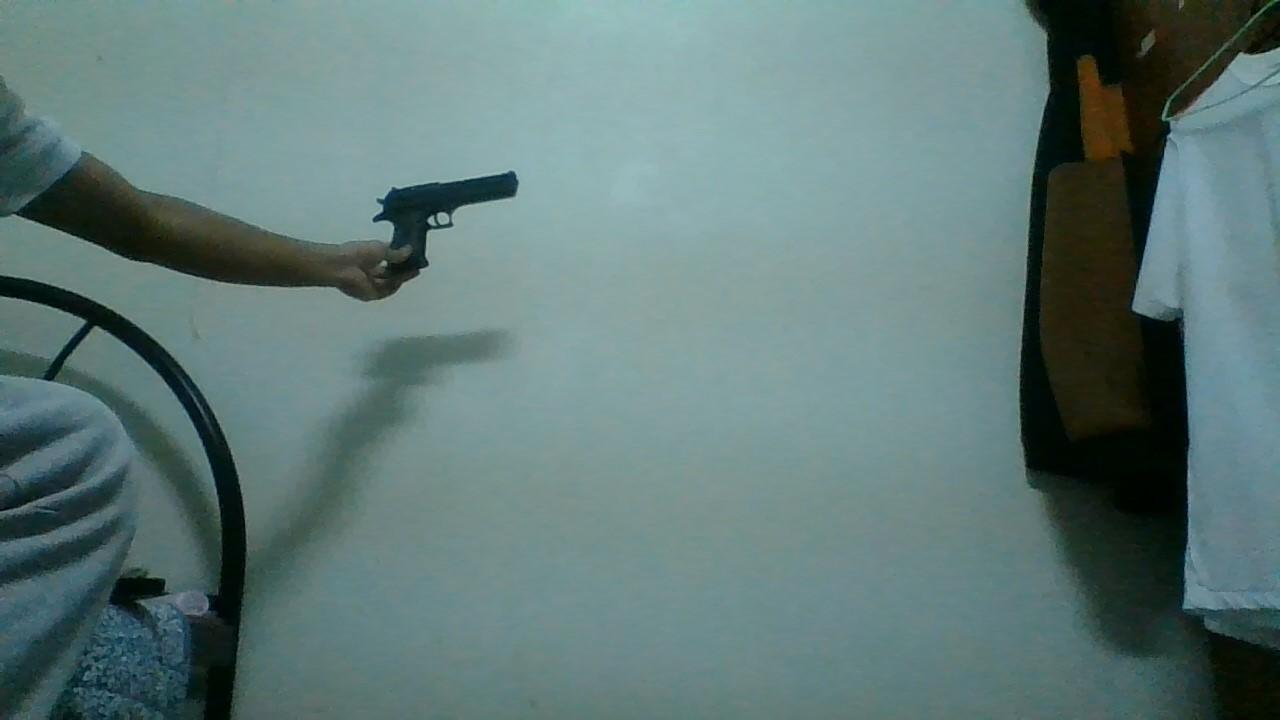weapon: (370, 165, 524, 277)
